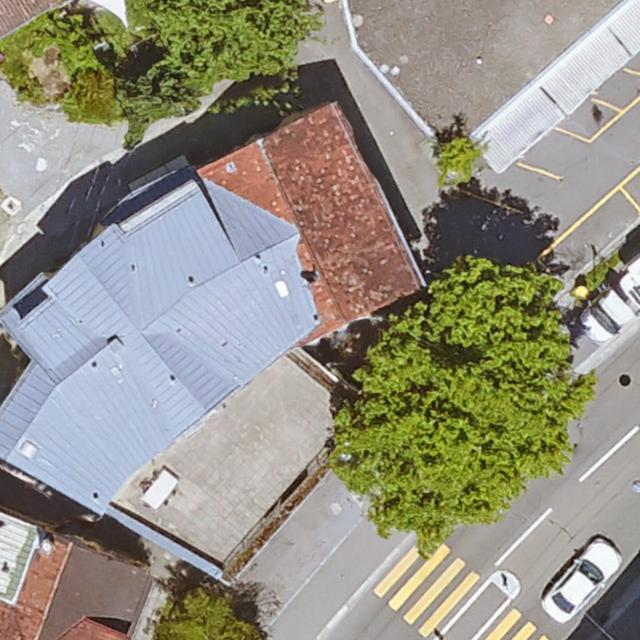tree: (330, 261, 586, 545), (149, 0, 314, 81), (154, 586, 267, 640), (126, 59, 195, 118), (69, 67, 122, 118), (49, 13, 97, 61), (437, 143, 478, 179)
